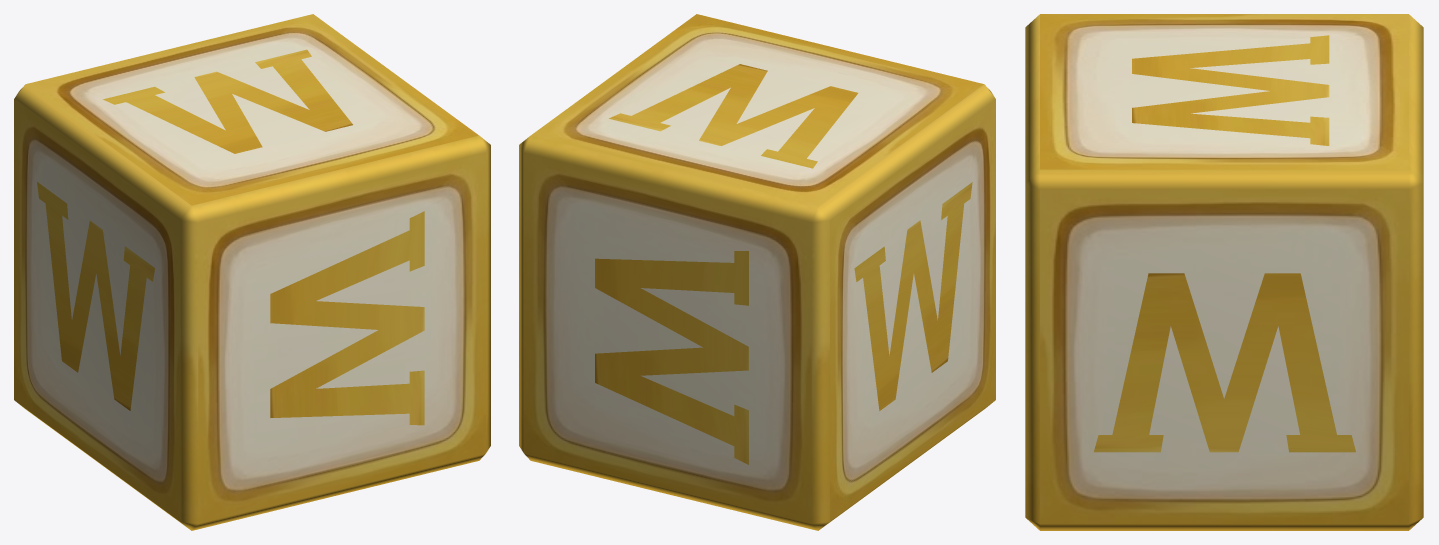
Rendered from CubeW.glb.
3 views of the same model, side by side, from view 1: azimuth 30°, elevation 25°; view 2: azimuth 150°, elevation 25°; view 3: azimuth 270°, elevation 25° (orthographic). The views are drawn at different scales.
Visible parts, largest first — view 1: CubeW; view 2: CubeW; view 3: CubeW.
Part boxes in pixels (left/top/right/bottom): CubeW: left=14, top=14, right=490, bottom=530; CubeW: left=519, top=14, right=995, bottom=530; CubeW: left=1025, top=14, right=1423, bottom=530.
Size of what is drawn, in the model's own units: 0.513 by 0.513 by 0.513.
Materials: 1 (1 with a texture image).
